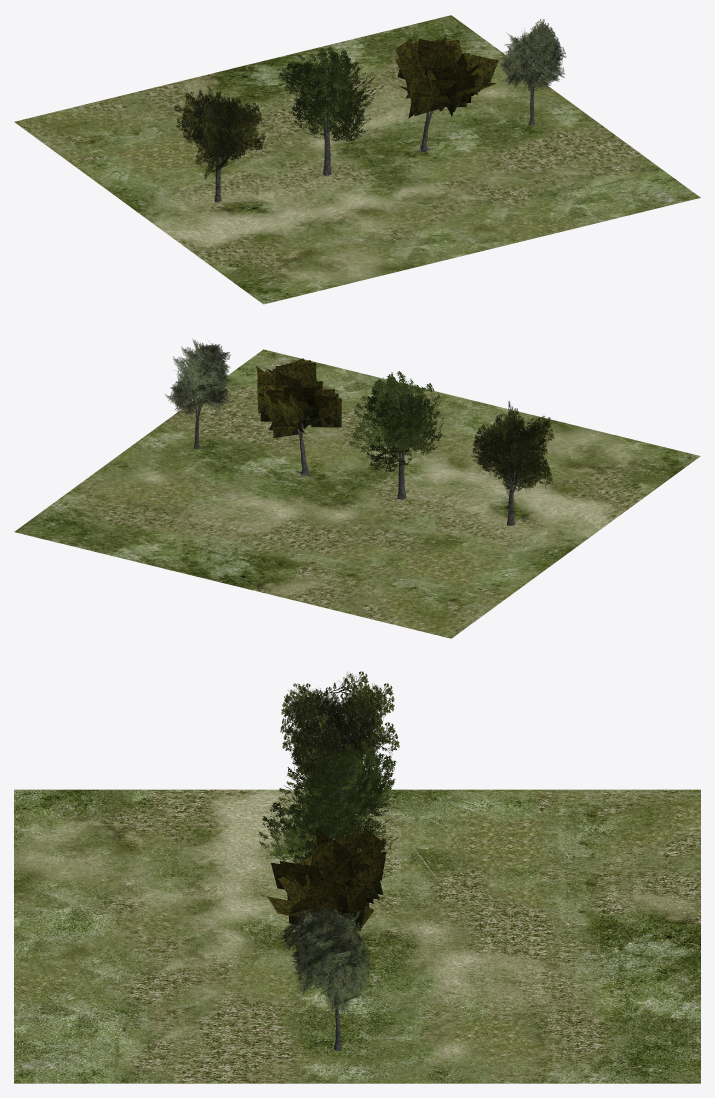
Rendered from low-poly_trees.glb.
The picture shows the model from 3 angles, top to bottom: view 1: azimuth 30°, elevation 25°; view 2: azimuth 150°, elevation 25°; view 3: azimuth 270°, elevation 25°; orthographic projection. The views are drawn at different scales.
Parts seen in each view (by area): view 1: Group5, Component_1_91; view 2: Group5; view 3: Group5, Component_6_28.
Boxes of the visible parts, x1,y1,x2,y2 form: Group5: [14, 15, 700, 304]; Component_1_91: [532, 31, 560, 61]; Group5: [14, 349, 700, 638]; Group5: [14, 789, 700, 1083]; Component_6_28: [330, 671, 370, 705].
Size of the model in its own units: 4.31 by 1.16 by 4.26.
8 materials, 8 textured.
